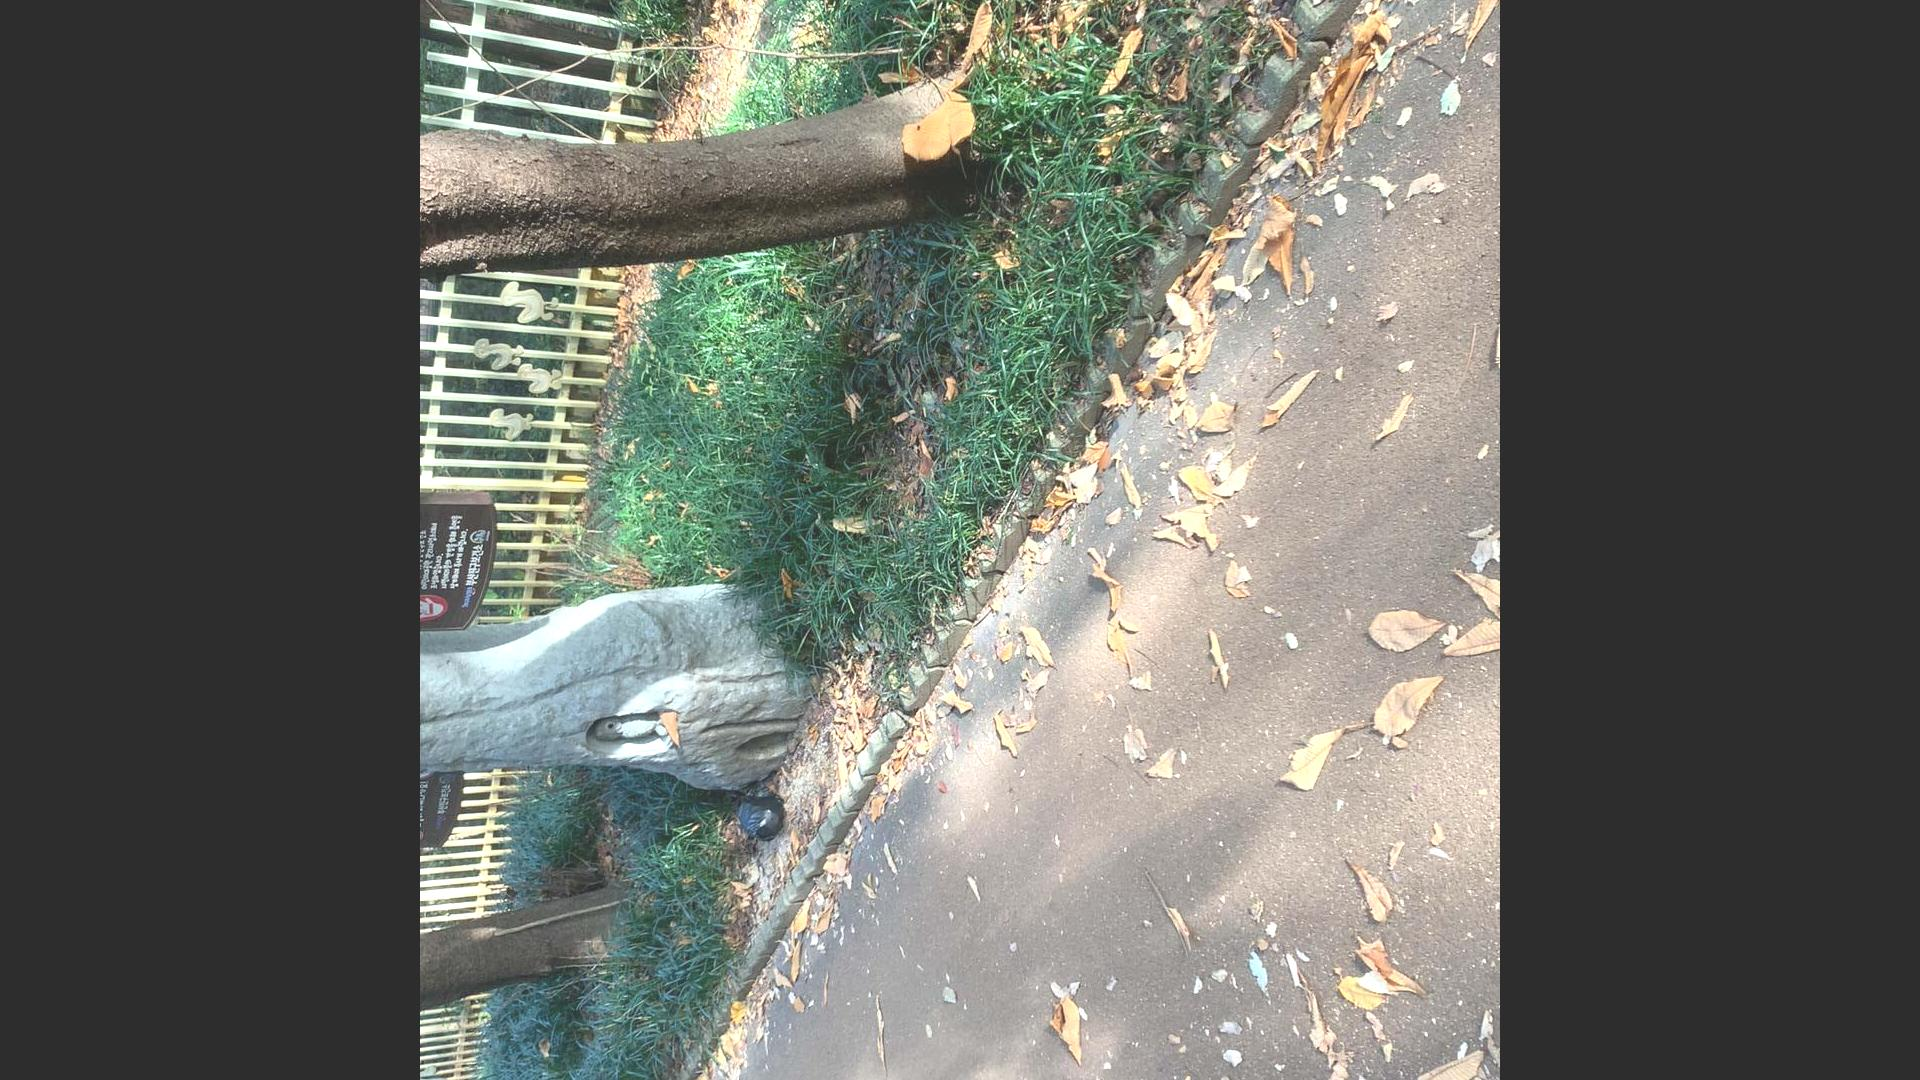black_bag: (735, 786, 785, 847)
